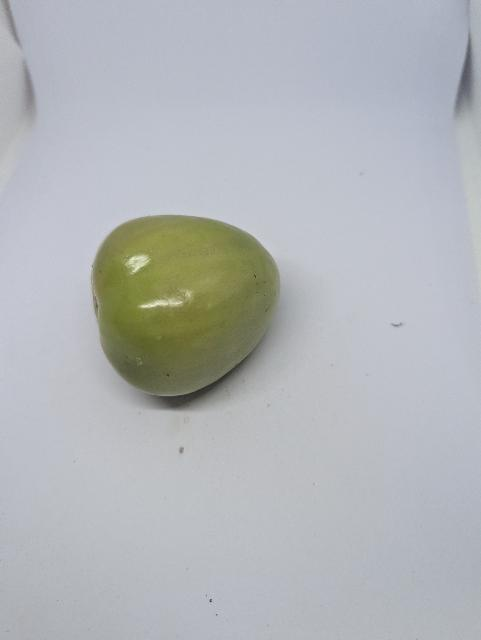green: (89, 212, 285, 398)
